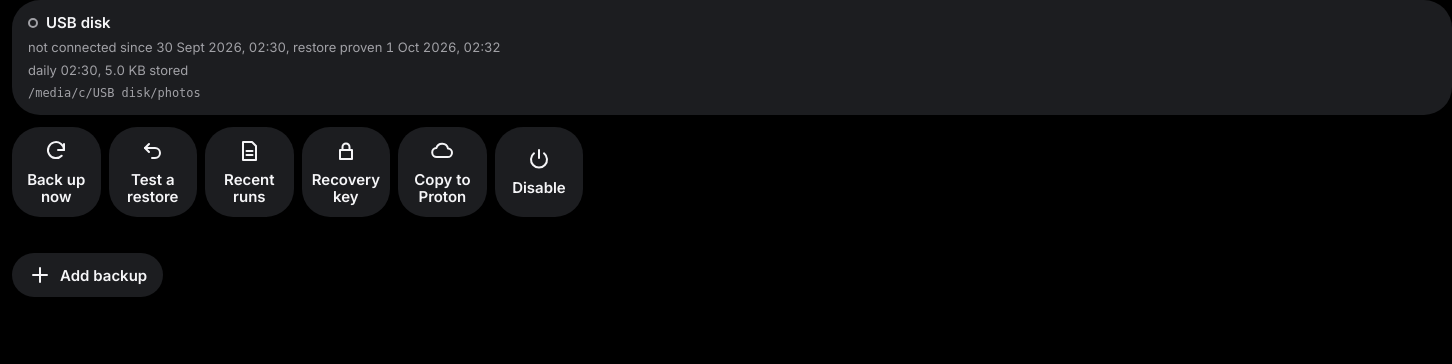
a place that is not connected › lists a skipped run with the word skipped
The image size is (1452, 364).
Step 1. Click the button "Recent runs" → (249, 172), box [205,127,294,217]
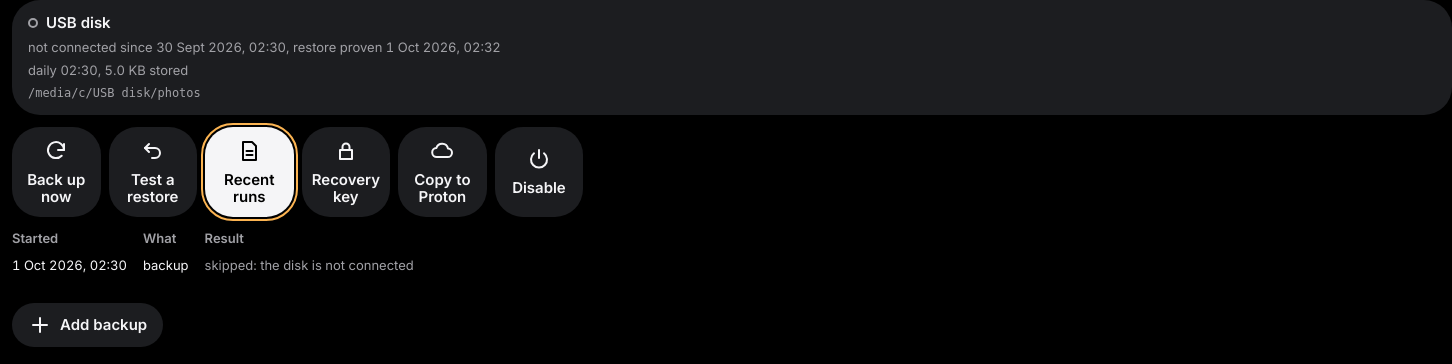
Expected: the cell "skipped: the disk is not connected" is shown, [205,252,430,279]
